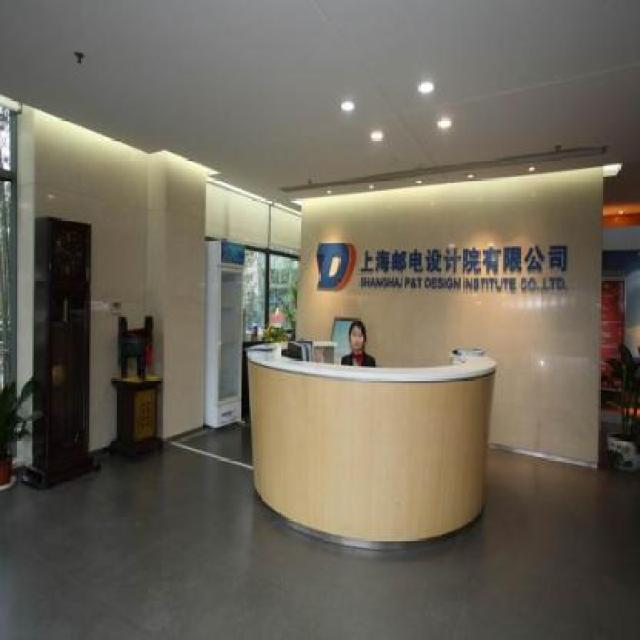frontdesk: (242, 315, 500, 561)
